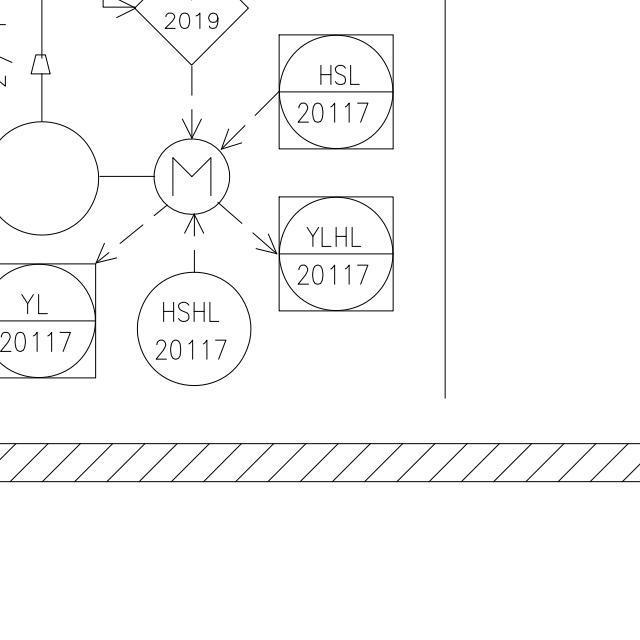M: (152, 137, 234, 216)
SP: (29, 51, 53, 79)
